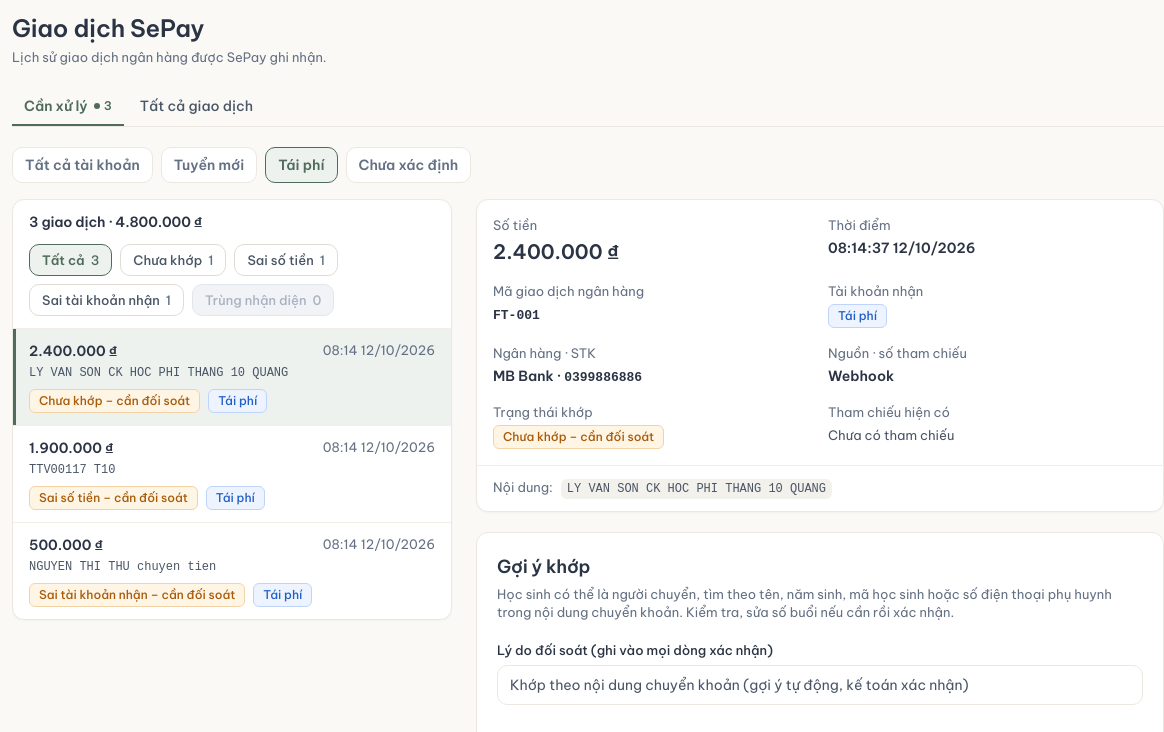
Test: SePay review workspace › selects another transfer and keeps the choice in the address bar without dropping other parameters
The width and height of the screenshot is (1164, 732).
Click the button named "Xem giao dịch FT-002". click: (232, 474)
box: left=13, top=426, right=451, bottom=522
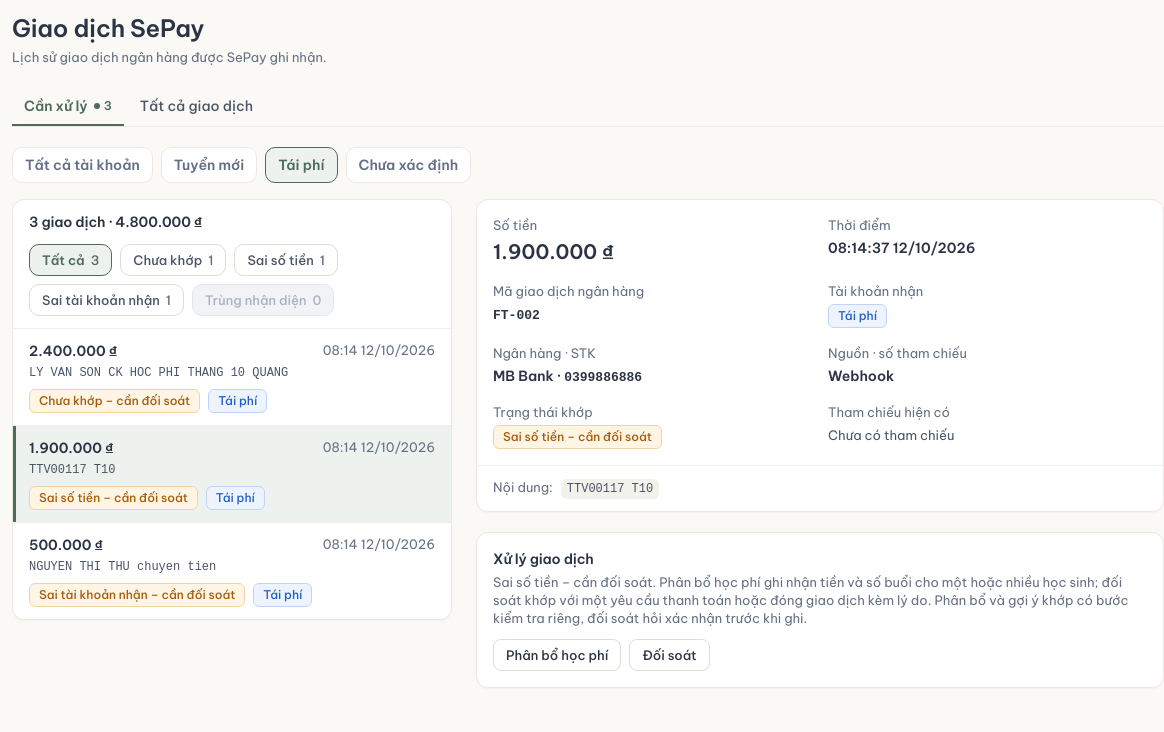
Expected: the text "FT-002" is shown, left=493, top=308, right=540, bottom=323
